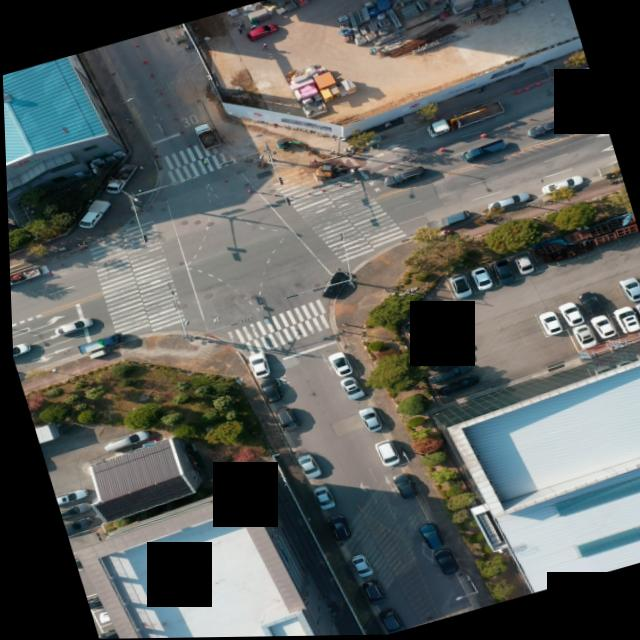car: (427, 373, 484, 401), (94, 426, 147, 453), (309, 270, 349, 301), (411, 518, 444, 551), (402, 312, 449, 335), (481, 191, 527, 214), (355, 576, 386, 610), (425, 364, 470, 386), (523, 117, 567, 139), (370, 607, 403, 636), (420, 351, 465, 371), (378, 166, 420, 187), (244, 20, 280, 43), (585, 315, 612, 345), (554, 301, 581, 331), (427, 549, 454, 579), (416, 341, 456, 361), (387, 473, 414, 502), (368, 440, 394, 470), (537, 176, 578, 195), (292, 453, 317, 484), (413, 325, 451, 345), (533, 312, 560, 340), (556, 70, 592, 91), (255, 377, 282, 405), (323, 514, 348, 544), (615, 275, 640, 305), (51, 317, 90, 336), (345, 552, 370, 581), (352, 406, 377, 435), (324, 352, 350, 379), (306, 485, 331, 513), (612, 309, 637, 337), (569, 326, 594, 353), (574, 292, 599, 319), (336, 375, 360, 403), (242, 351, 266, 379), (488, 261, 513, 287), (269, 406, 293, 432), (445, 274, 469, 299), (465, 268, 489, 292), (51, 490, 82, 506), (512, 255, 533, 278), (509, 259, 530, 282), (54, 502, 84, 518), (10, 343, 26, 357), (632, 305, 640, 330), (637, 274, 640, 297)
medium_truck: (422, 99, 506, 138)
small_truck: (65, 195, 113, 233), (96, 161, 143, 194), (73, 331, 126, 356), (8, 259, 48, 289), (423, 209, 468, 232), (461, 139, 504, 161), (191, 123, 217, 151)
